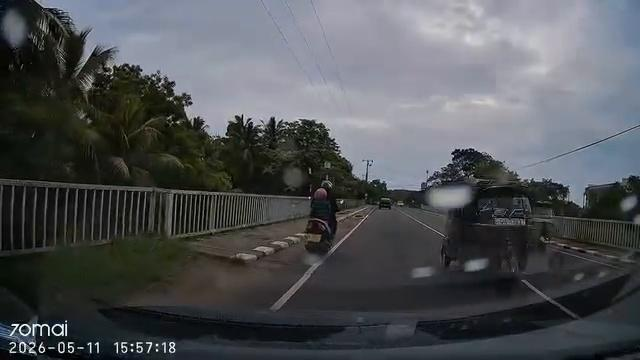illegal overtaking: (433, 184, 533, 294)
